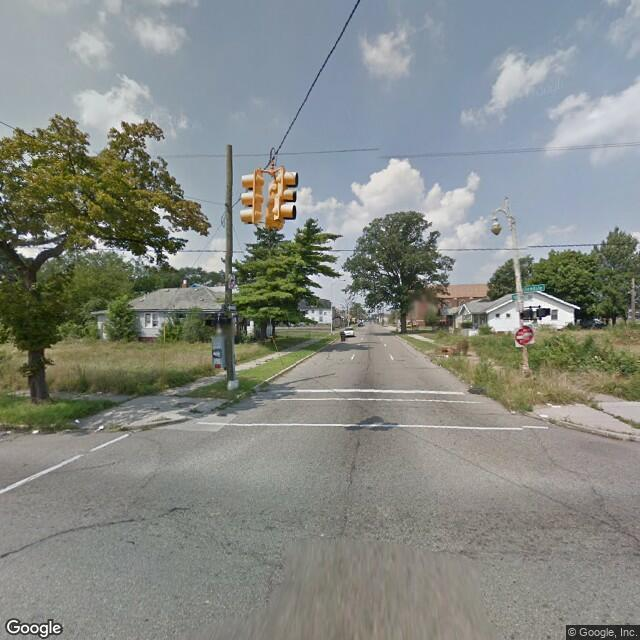litter: (91, 426, 113, 433), (72, 413, 79, 426), (5, 426, 15, 435), (31, 428, 43, 435), (508, 409, 519, 415)
